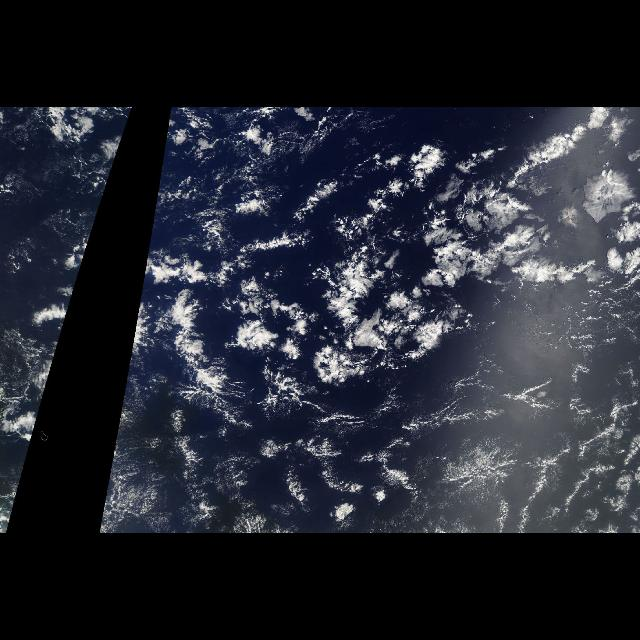Flower: (116, 108, 640, 434), (4, 108, 132, 434)
